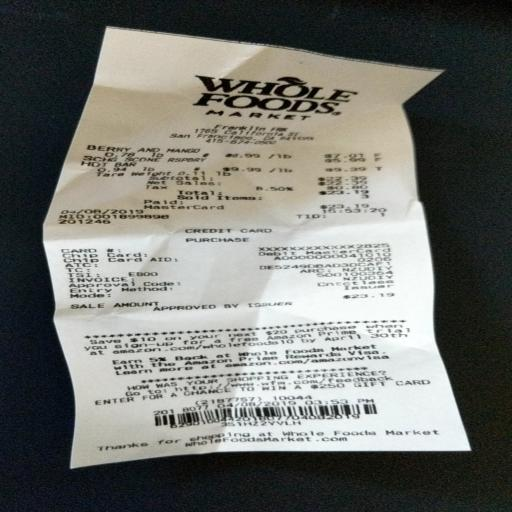paper: (18, 3, 512, 494)
